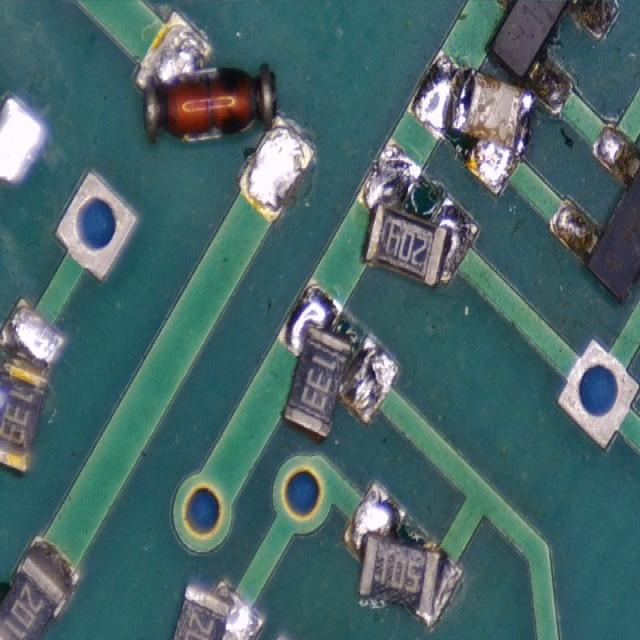Incorrect_installation: (131, 8, 317, 225), (275, 276, 401, 440), (407, 51, 537, 199), (355, 137, 481, 289), (340, 480, 465, 630), (0, 295, 68, 475), (172, 578, 266, 640)
